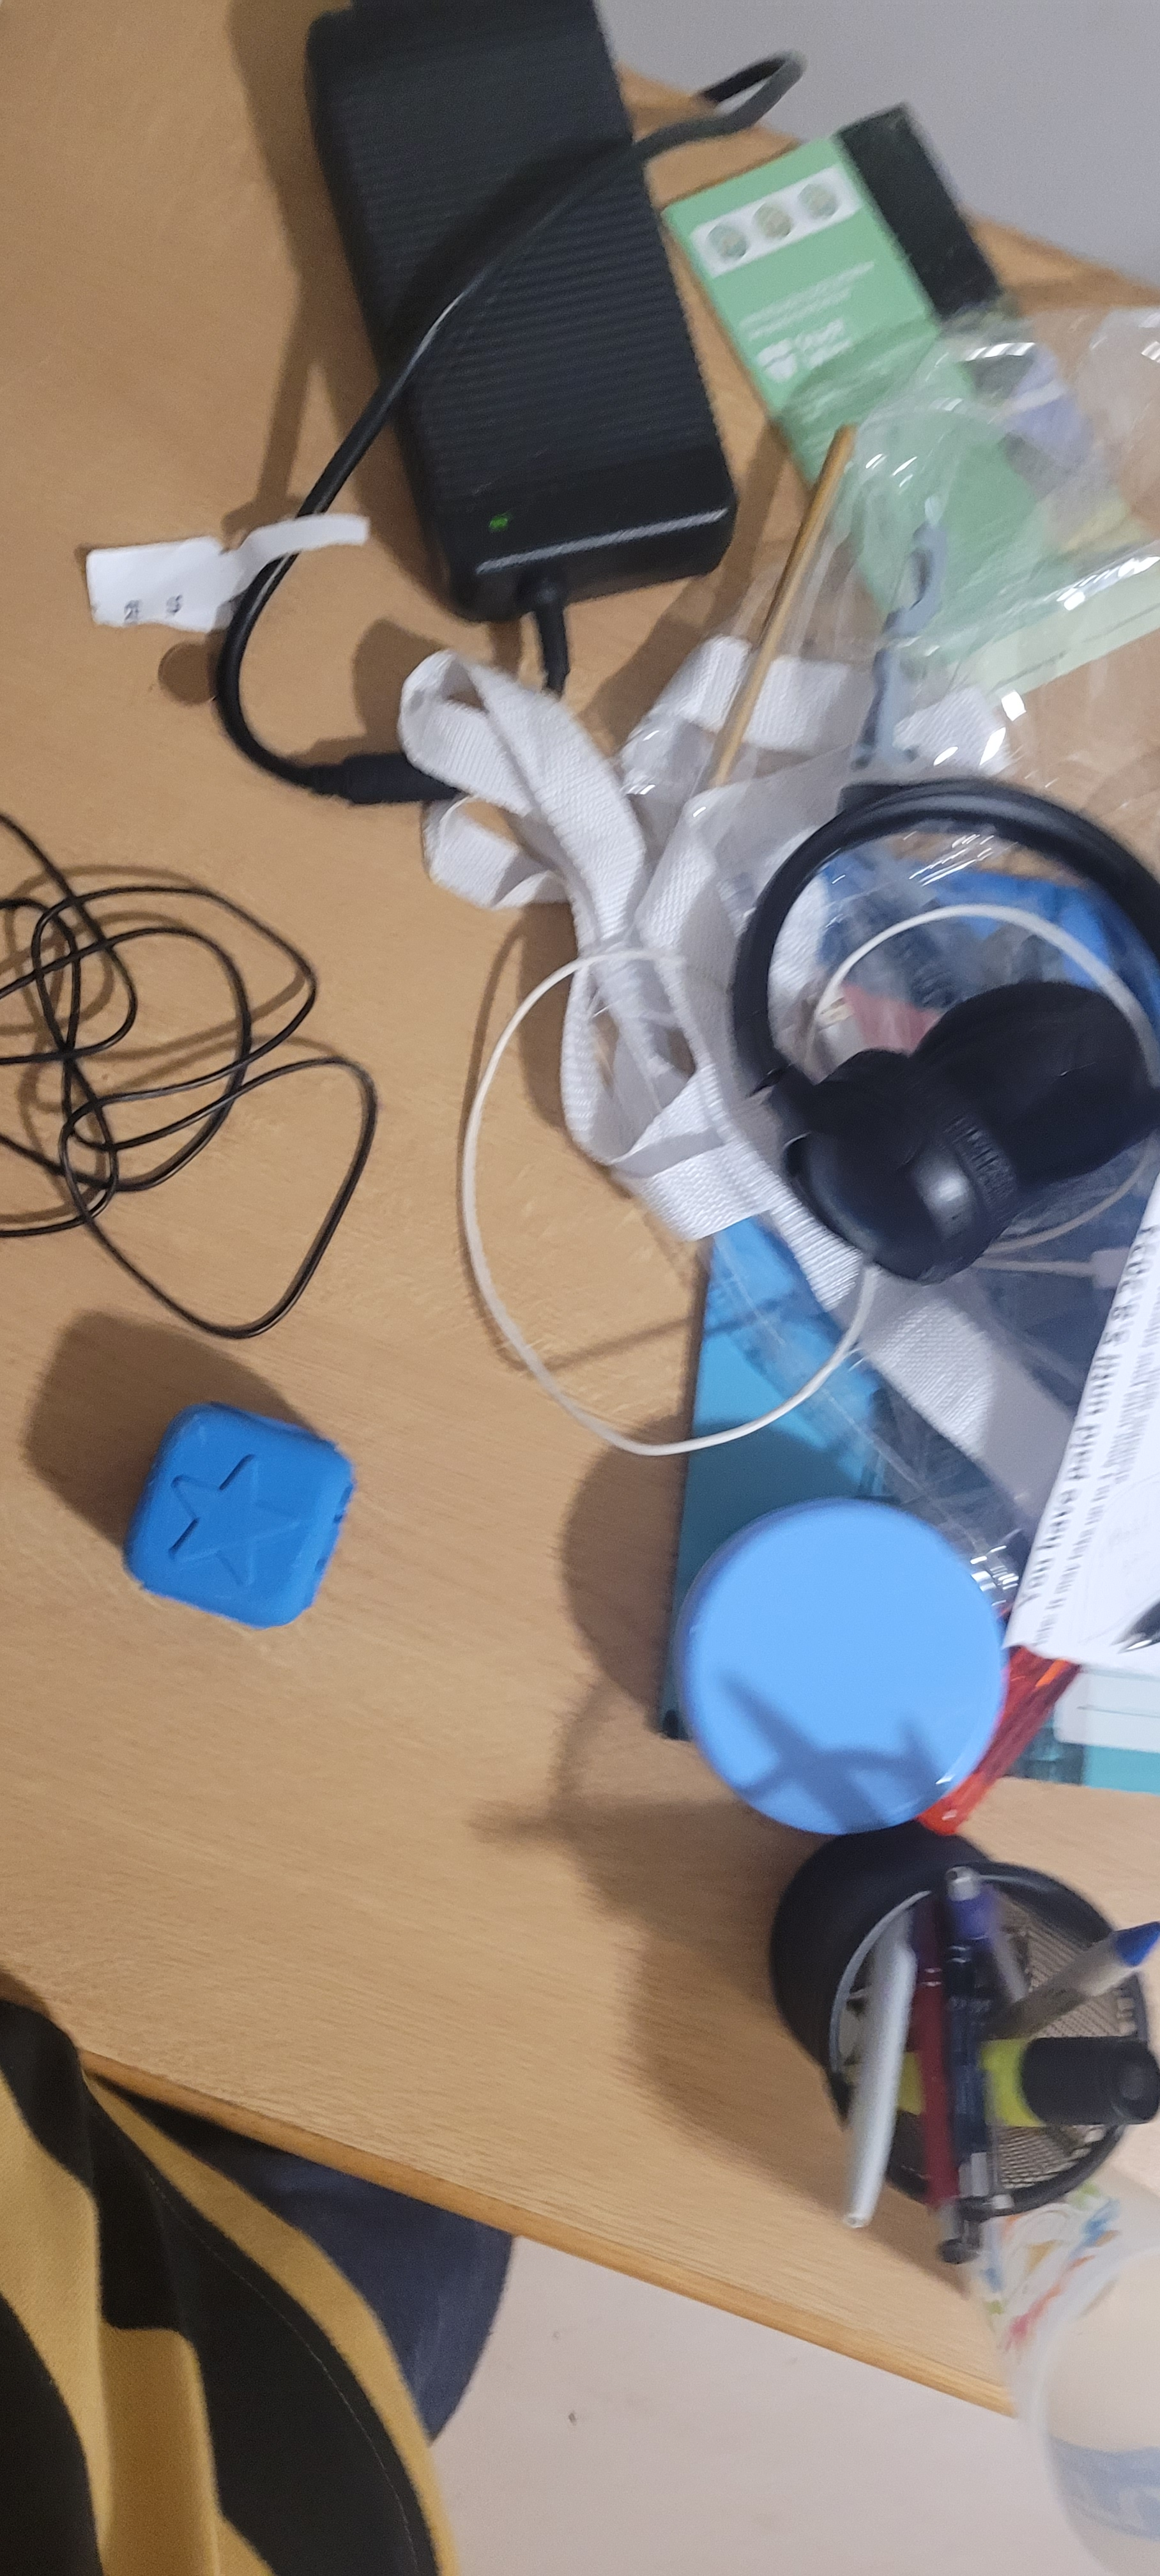Star: (145, 1400, 343, 1575)
